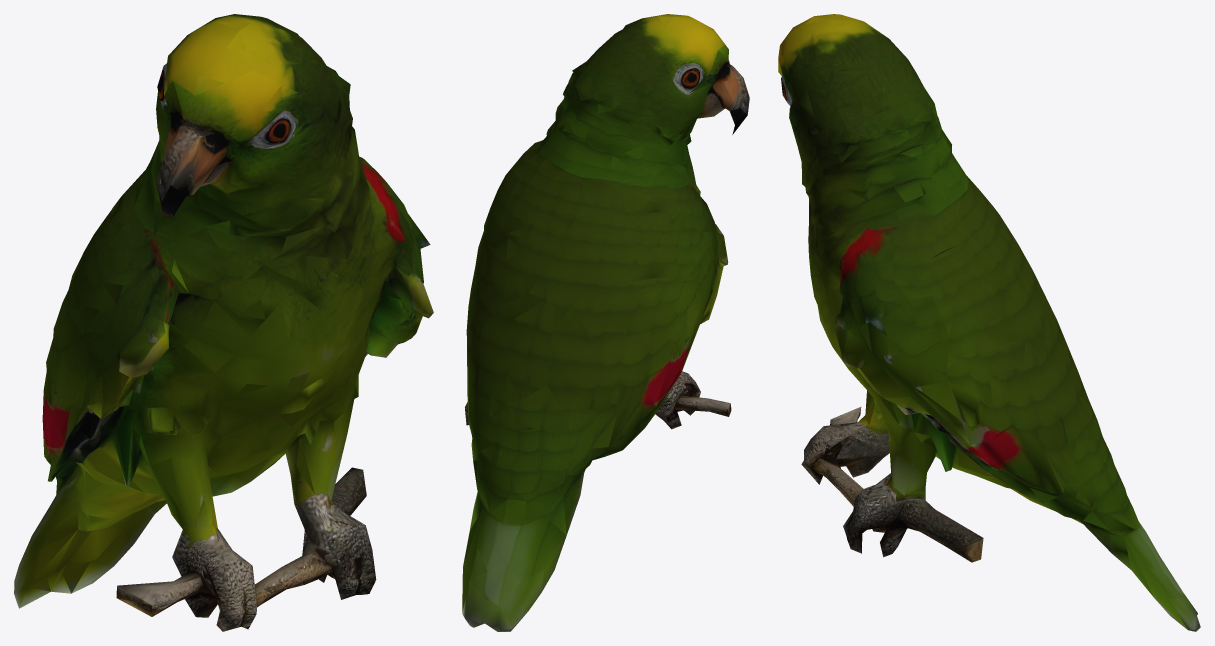
File: loro.glb
3 views of the same model, side by side, from view 1: azimuth 30°, elevation 25°; view 2: azimuth 150°, elevation 25°; view 3: azimuth 270°, elevation 25° (orthographic). The views are drawn at different scales.
Parts seen in each view (by area): view 1: tripo_node_bc371f01; view 2: tripo_node_bc371f01; view 3: tripo_node_bc371f01.
Boxes of the visible parts, bbox=[...] form: tripo_node_bc371f01: bbox=[14, 14, 433, 631]; tripo_node_bc371f01: bbox=[462, 14, 749, 631]; tripo_node_bc371f01: bbox=[778, 14, 1200, 631].
Size of the model in its own units: 0.4488 by 0.9986 by 0.6534.
Materials: 1 (1 with a texture image).
